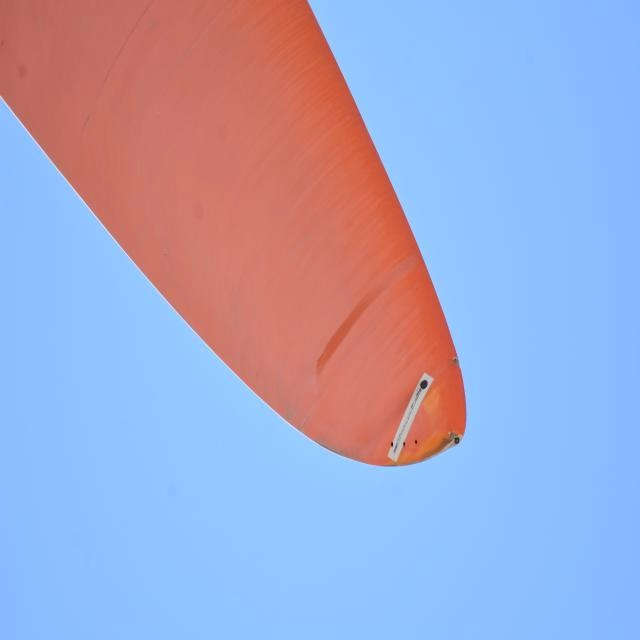Coating_defects: (439, 429, 466, 452)
Crack: (391, 392, 428, 465)
